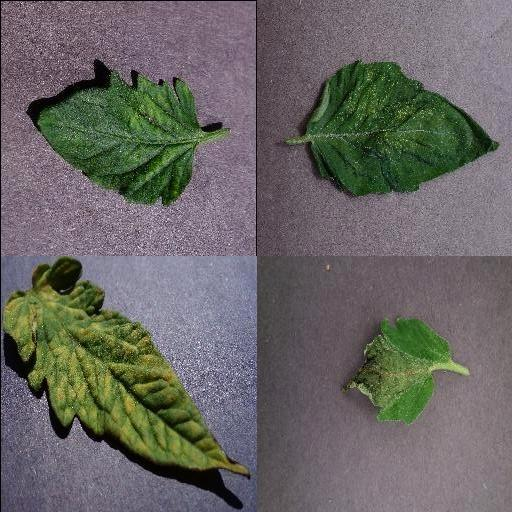Late Blight: (339, 316, 451, 426)
Leaf Mold: (0, 256, 252, 481)
Mosaic Virus: (34, 69, 200, 207)
Spider Mites: (303, 61, 499, 199)
